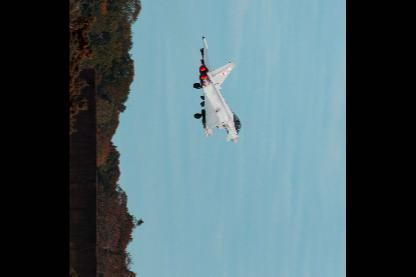E2: (193, 35, 242, 144)
